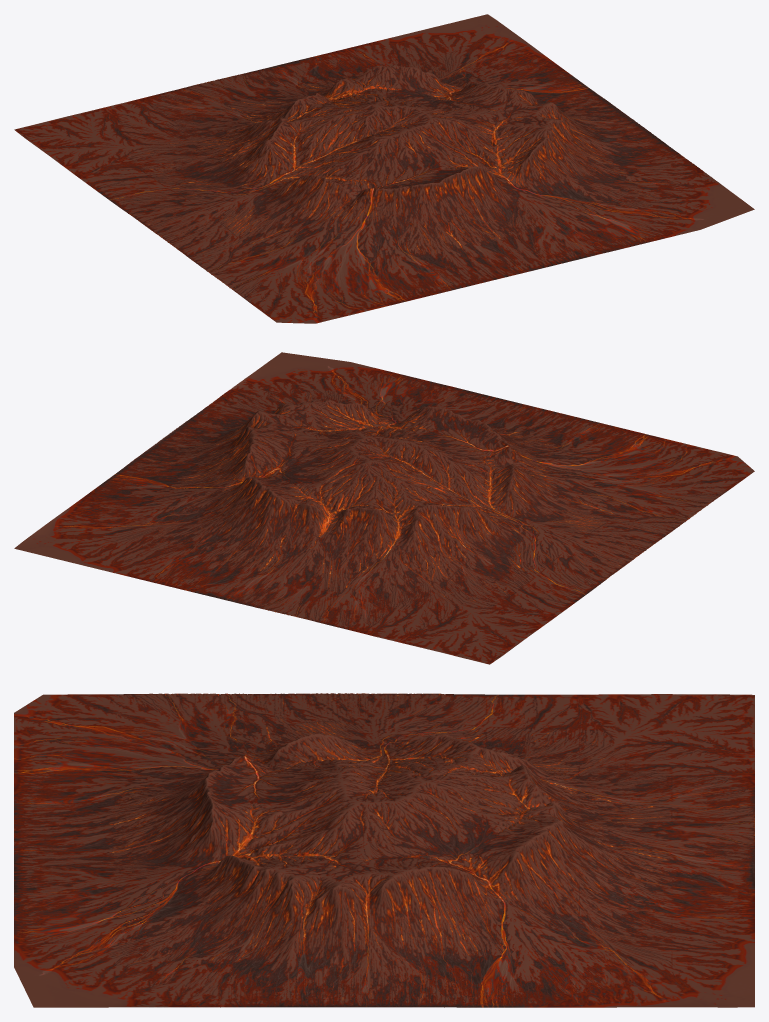
File: Icelandic mountain.fbx
The picture shows the model from 3 angles, top to bottom: view 1: azimuth 30°, elevation 25°; view 2: azimuth 150°, elevation 25°; view 3: azimuth 270°, elevation 25°; orthographic projection. The views are drawn at different scales.
Parts seen in each view (by area): view 1: Mesher_low_res; view 2: Mesher_low_res; view 3: Mesher_low_res.
Part boxes in pixels (left/top/right/bottom): Mesher_low_res: left=14, top=14, right=754, bottom=323; Mesher_low_res: left=14, top=352, right=754, bottom=664; Mesher_low_res: left=14, top=693, right=754, bottom=1007.
Size of the model in its own units: 5451 by 592 by 5451.
